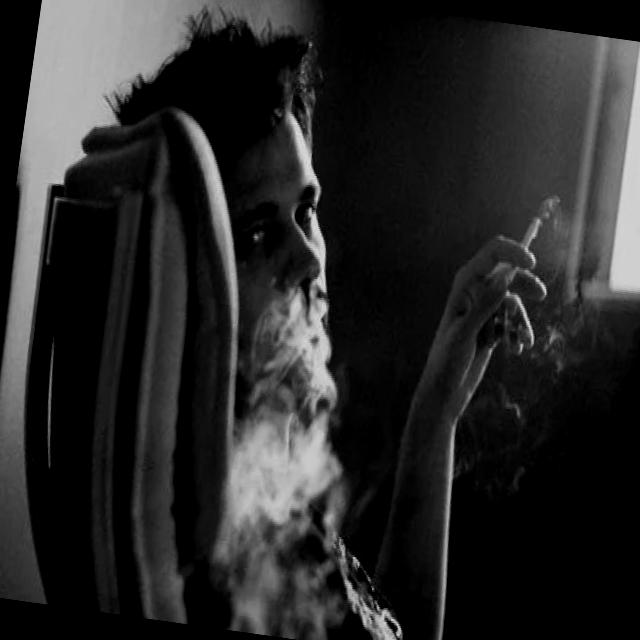cigarette: (510, 180, 568, 266)
